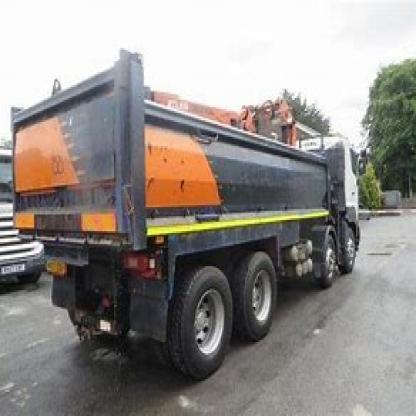dump_truck: (7, 48, 382, 370)
